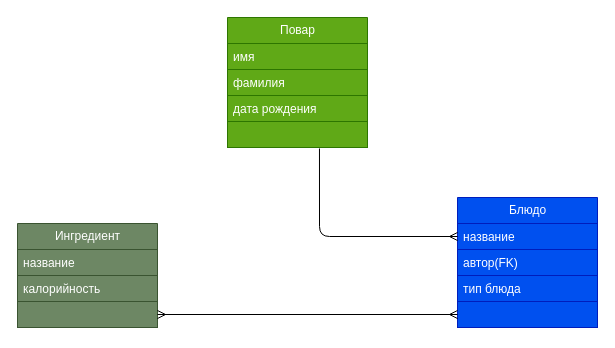
The diagram is 615 pixels wide and 348 high, and some of its shapes have lost their labels. The shapes that lost their labels are listed below. From the top down, each one's centre as x and y in pixels, then its label:
At pixel 297 134: "зарплата".
At pixel 87 314: "цена".
At pixel 527 314: "игредиенты".
